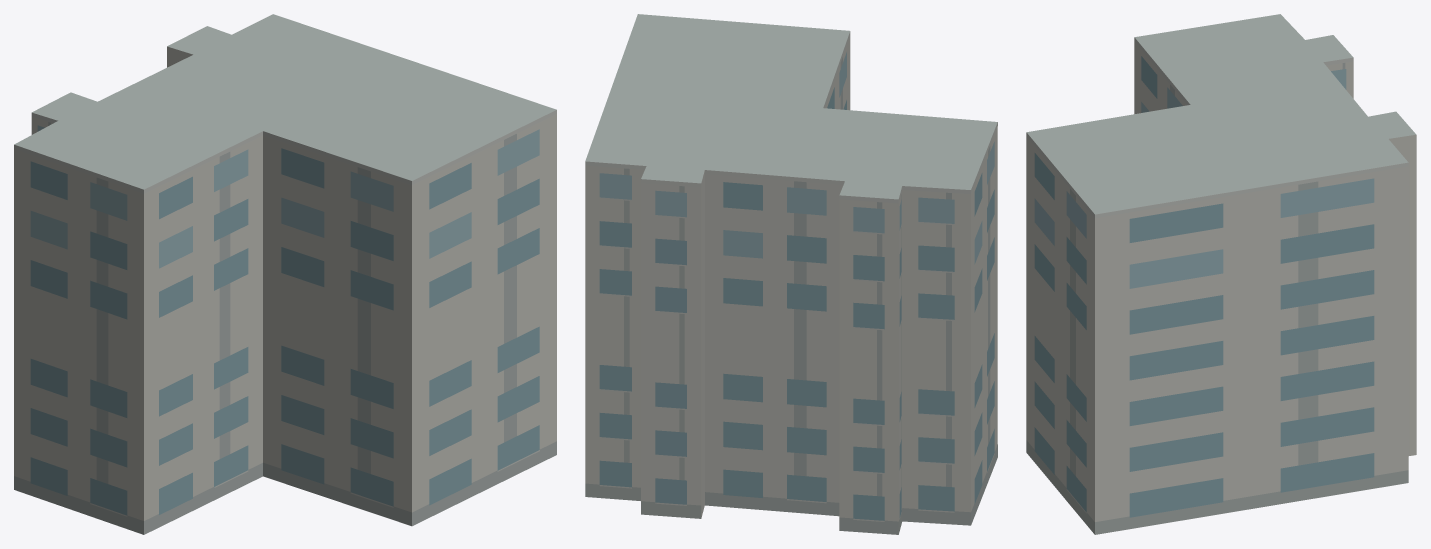
The model's file is survey-upis-32865925.glb.
3 views of the same model, side by side, from view 1: azimuth 30°, elevation 25°; view 2: azimuth 150°, elevation 25°; view 3: azimuth 270°, elevation 25° (orthographic). The views are drawn at different scales.
Visible parts, largest first — view 1: survey-upis-32865925.tmp; view 2: survey-upis-32865925.tmp; view 3: survey-upis-32865925.tmp.
Boxes of the visible parts, box(x1,y1,x2,y2) form: survey-upis-32865925.tmp: box(14, 14, 556, 534); survey-upis-32865925.tmp: box(585, 14, 997, 534); survey-upis-32865925.tmp: box(1026, 14, 1416, 534).
Size of the model in its own units: 26.86 by 20 by 22.08.
